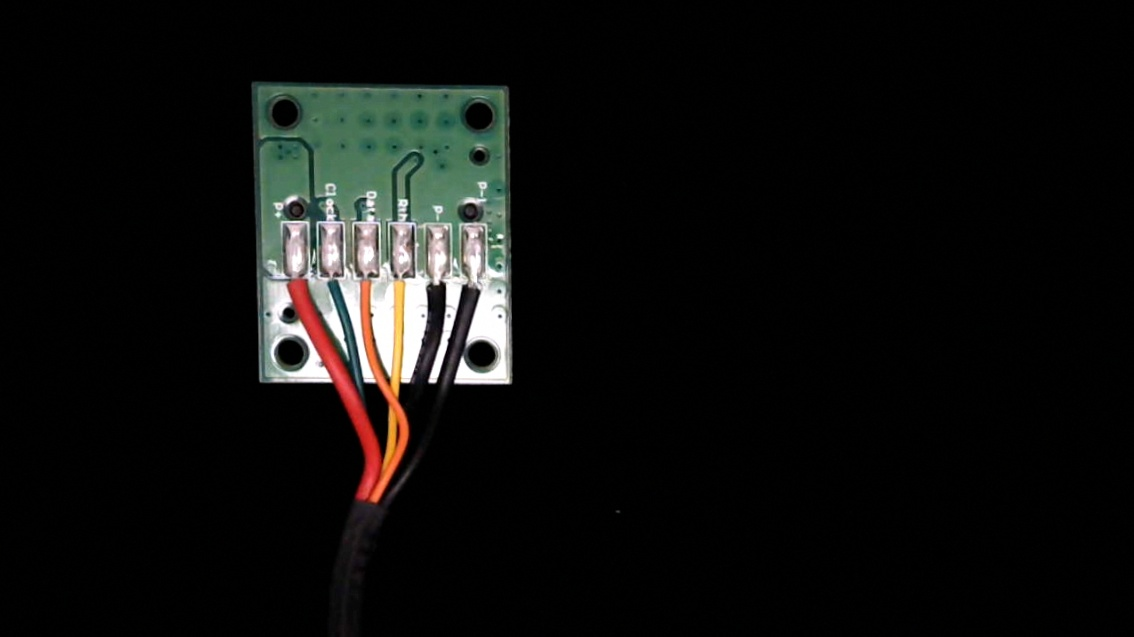Black: (424, 265, 450, 316)
Black1: (459, 266, 487, 317)
Green: (317, 262, 346, 309)
Orange: (352, 264, 382, 311)
Red: (283, 261, 308, 309)
Yellow: (387, 266, 417, 317)
